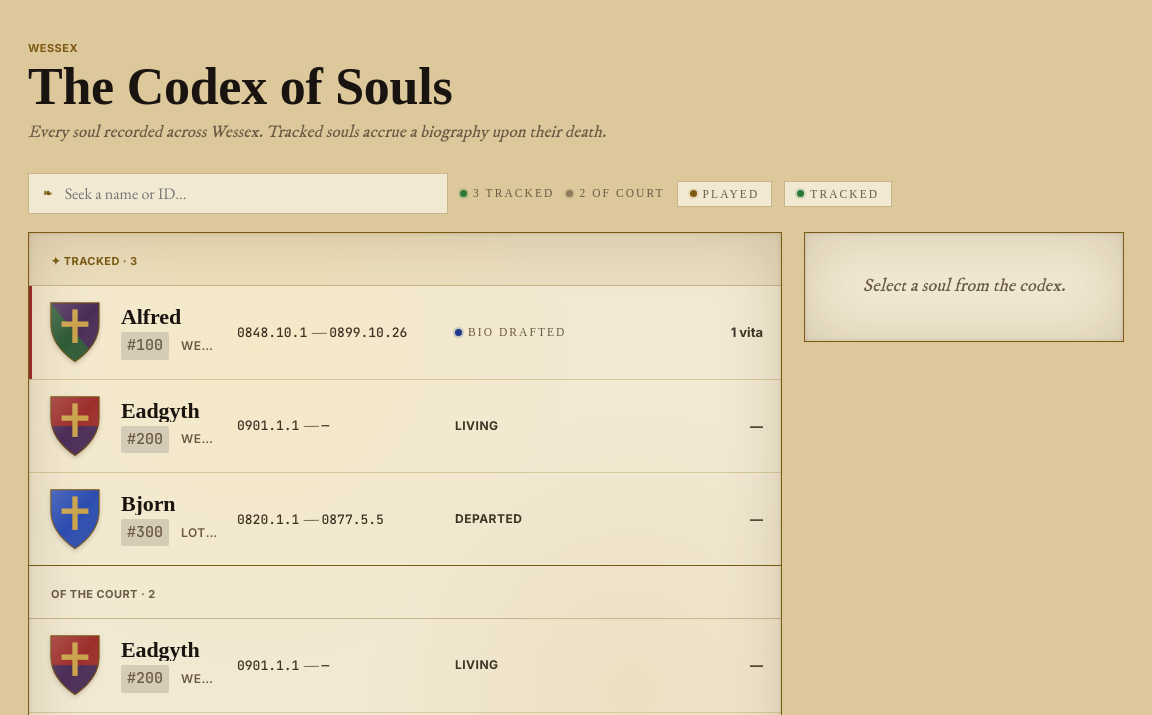
Test: CodexPage › clicking a row selects the character and loads detail
Click the text "Alfred" at (151, 317), box [121, 304, 181, 329]
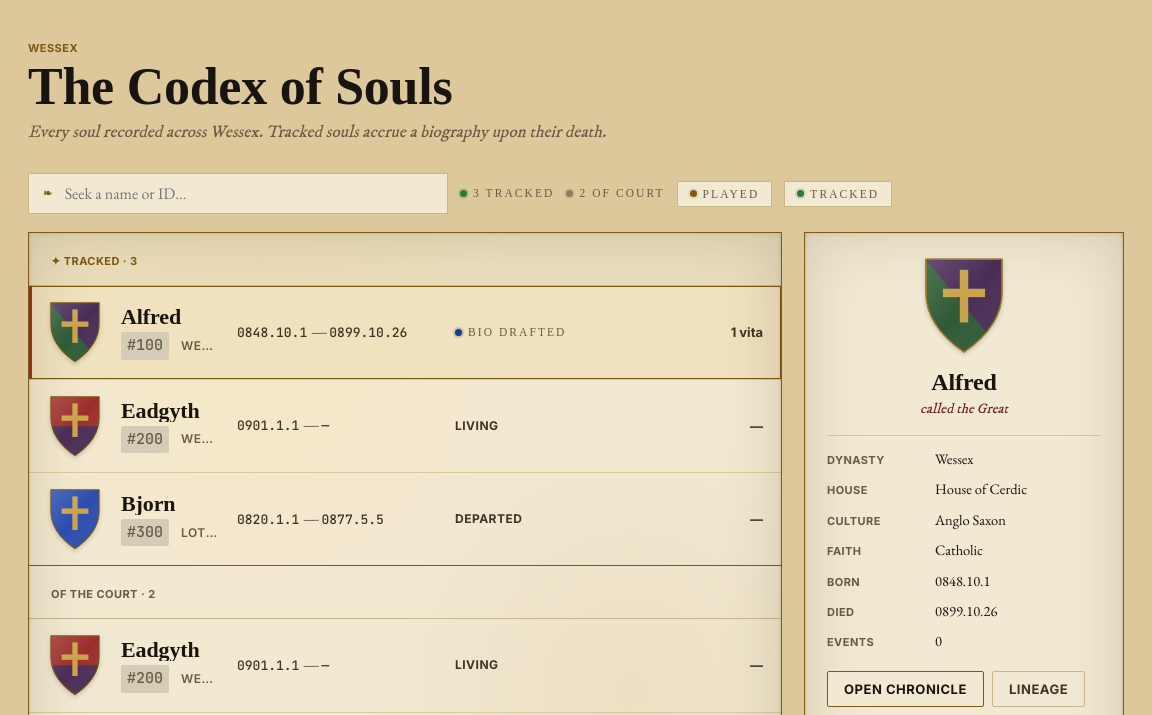
Expected: the text "called the Great" is shown, [920, 400, 1008, 418]
Expected: the text "House of Cerdic" is shown, [935, 479, 1027, 498]
Expected: the text "Anglo Saxon" is shown, [935, 510, 1006, 529]
